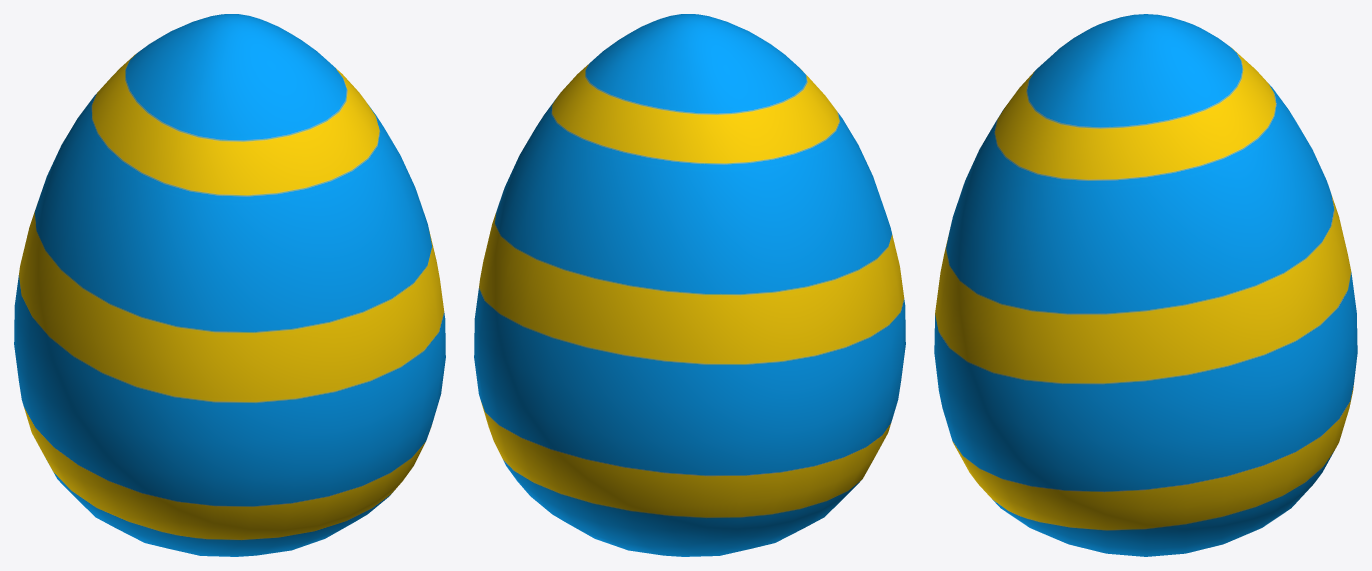
File: egg.fbx
3 views of the same model, side by side, from view 1: azimuth 30°, elevation 25°; view 2: azimuth 150°, elevation 25°; view 3: azimuth 270°, elevation 25° (orthographic).
Parts seen in each view (by area): view 1: cube; view 2: cube; view 3: cube.
Part boxes in pixels (x1,y1,x2,y2): cube: [14, 14, 445, 556]; cube: [474, 14, 905, 556]; cube: [934, 14, 1357, 556].
Bounding box in the file's own units: 14.85 × 19.79 × 14.85.
1 material, 1 textured.
